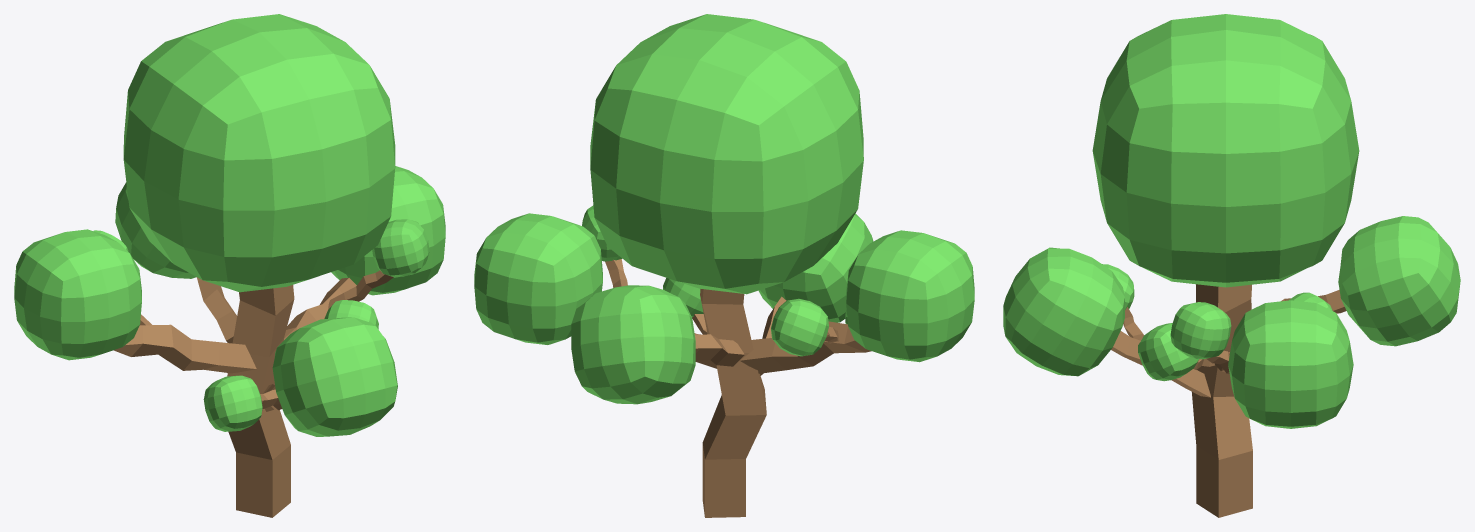
File: PlantLarge.fbx
3 renders of one model, left to right at view 1: azimuth 30°, elevation 25°; view 2: azimuth 150°, elevation 25°; view 3: azimuth 270°, elevation 25°, orthographic.
Parts seen in each view (by area): view 1: PlantLarge; view 2: PlantLarge; view 3: PlantLarge.
Boxes of the visible parts, x1,y1,x2,y2 form: PlantLarge: (14, 14, 445, 517); PlantLarge: (474, 14, 974, 517); PlantLarge: (1003, 14, 1460, 517).
Bounding box in the file's own units: 238 × 242 × 212.
